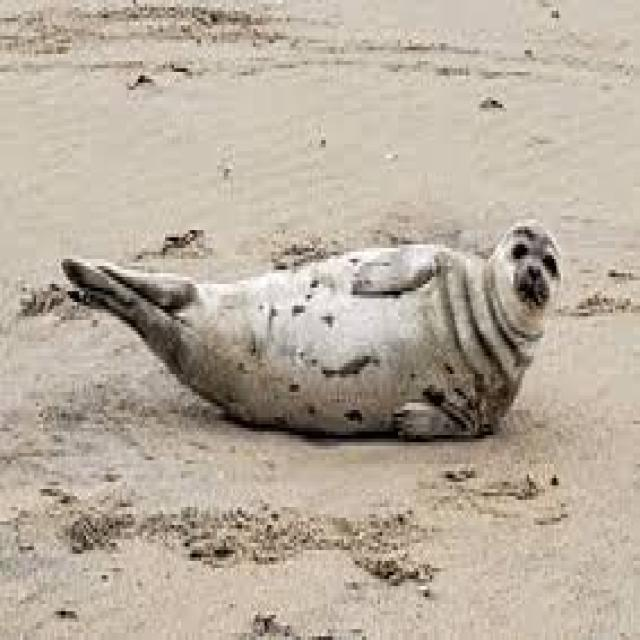seal: (61, 219, 561, 435)
